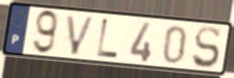0: (162, 24, 190, 65)
4: (127, 19, 154, 64)
9: (31, 8, 60, 56)
L: (95, 17, 121, 60)
S: (190, 25, 222, 70)
V: (65, 13, 98, 57)
